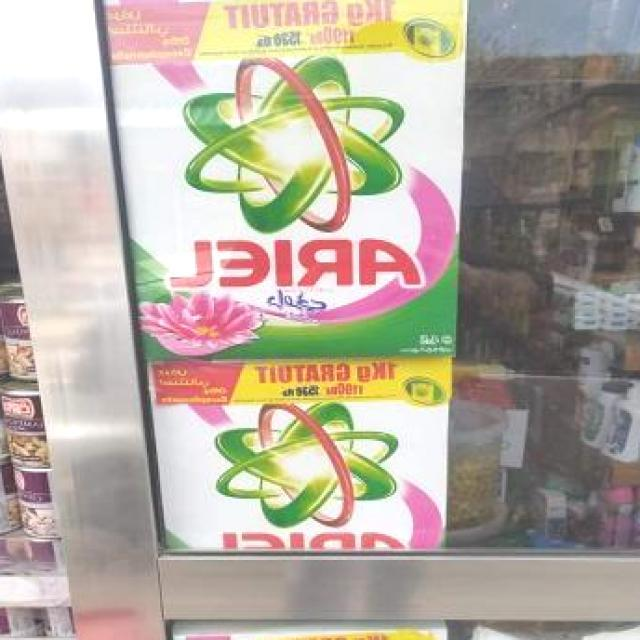Detergent: (127, 0, 474, 357), (174, 356, 444, 557)
